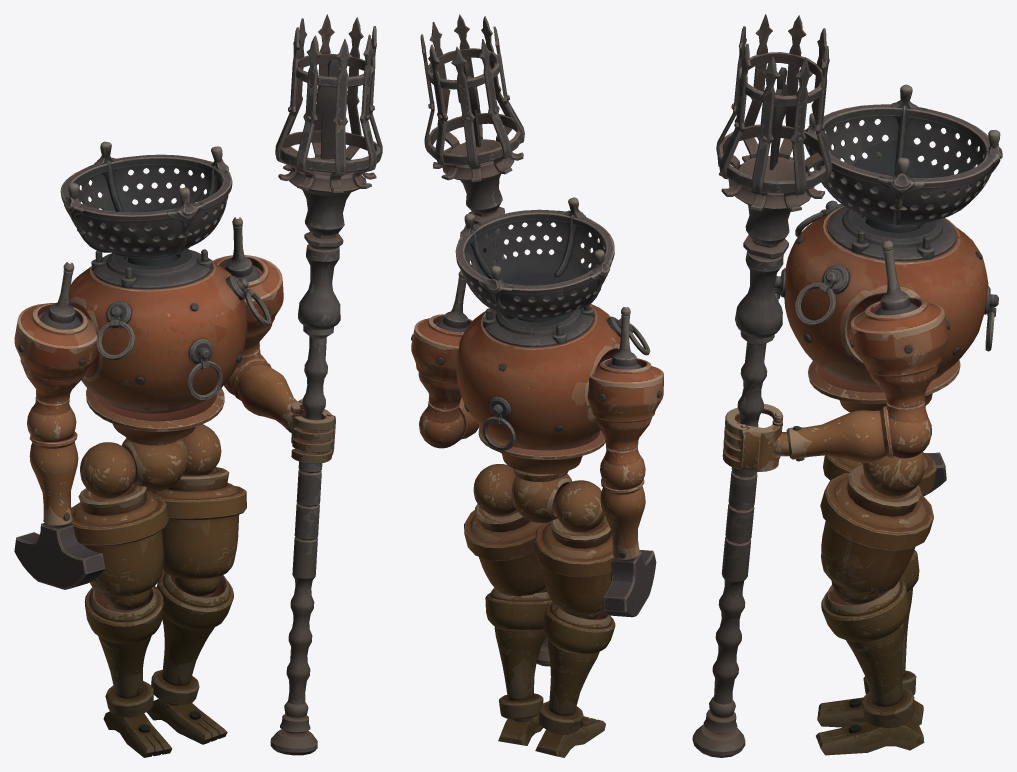
Rendered from Guardian.glb.
3 renders of one model, left to right at view 1: azimuth 30°, elevation 25°; view 2: azimuth 150°, elevation 25°; view 3: azimuth 270°, elevation 25°, orthographic. The views are drawn at different scales.
Visible parts, largest first — view 1: models\npc\boss_tier_01_brazier_guardian\boss_tier_01_brazie; view 2: models\npc\boss_tier_01_brazier_guardian\boss_tier_01_brazie; view 3: models\npc\boss_tier_01_brazier_guardian\boss_tier_01_brazie.
Part boxes in pixels (x1=…): models\npc\boss_tier_01_brazier_guardian\boss_tier_01_brazie: x1=14, y1=14, x2=382, y2=757; models\npc\boss_tier_01_brazier_guardian\boss_tier_01_brazie: x1=411, y1=14, x2=663, y2=757; models\npc\boss_tier_01_brazier_guardian\boss_tier_01_brazie: x1=692, y1=14, x2=1002, y2=757.
Size of the model in its own units: 2.9 by 6.5 by 2.35.
2 materials, 2 textured.
